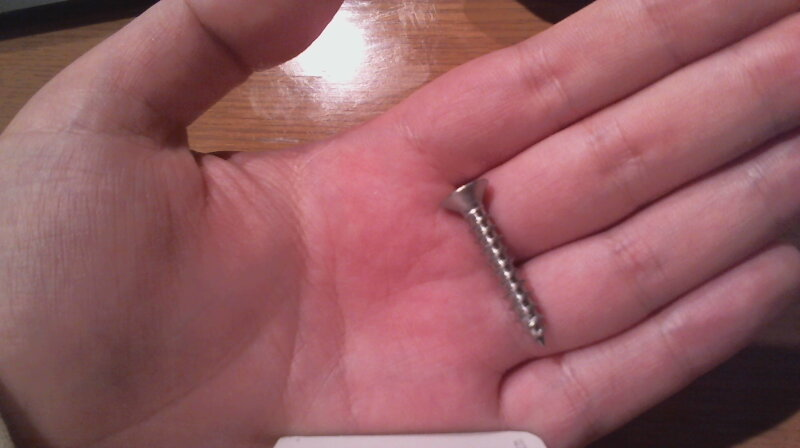S001: (436, 177, 556, 349)
